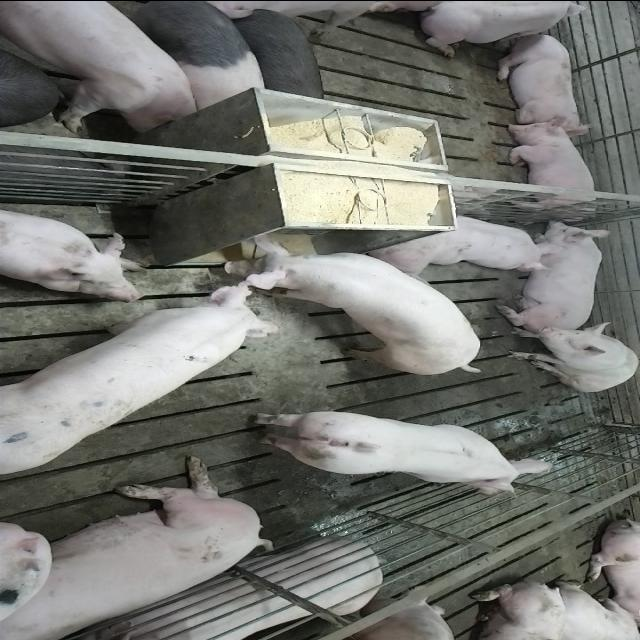Lateral_lying: (4, 453, 278, 636), (68, 536, 396, 640)
Sitting: (503, 321, 638, 391)
Standing: (5, 276, 285, 478), (218, 236, 480, 376), (248, 408, 559, 498), (0, 2, 204, 134), (109, 2, 267, 112), (229, 10, 329, 109)
Sternal_lying: (0, 204, 146, 296), (501, 218, 615, 327), (366, 210, 554, 271), (416, 2, 600, 56), (502, 118, 602, 215), (491, 31, 588, 130)
